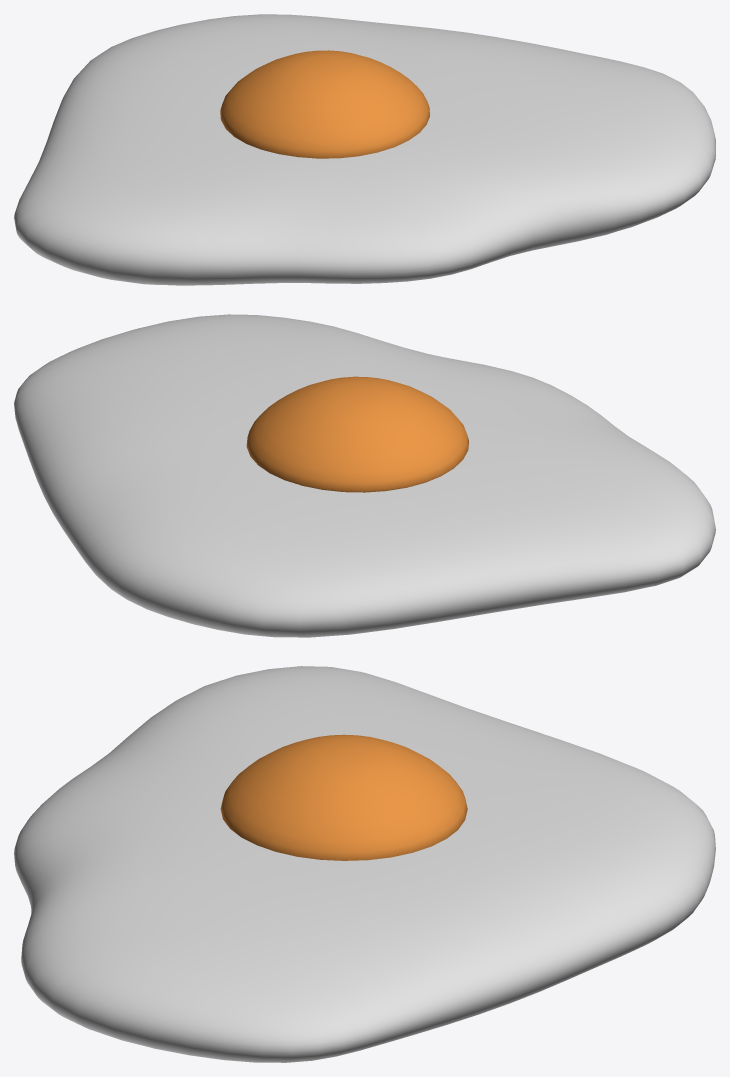
The model's file is jajko.glb.
3 views of the same model, one above another, from view 1: azimuth 30°, elevation 25°; view 2: azimuth 150°, elevation 25°; view 3: azimuth 270°, elevation 25° (orthographic). The views are drawn at different scales.
Parts seen in each view (by area): view 1: Sphere.002, Sphere.003; view 2: Sphere.002, Sphere.003; view 3: Sphere.002, Sphere.003.
Boxes of the visible parts, x1,y1,x2,y2 form: Sphere.002: [14, 14, 715, 285]; Sphere.003: [220, 50, 429, 158]; Sphere.002: [14, 314, 715, 637]; Sphere.003: [246, 376, 468, 492]; Sphere.002: [14, 666, 715, 1062]; Sphere.003: [220, 734, 467, 860].
Size of the model in its own units: 2.79 by 0.5475 by 2.23.
